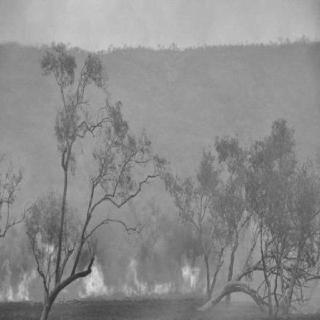Fire: (3, 211, 317, 301)
